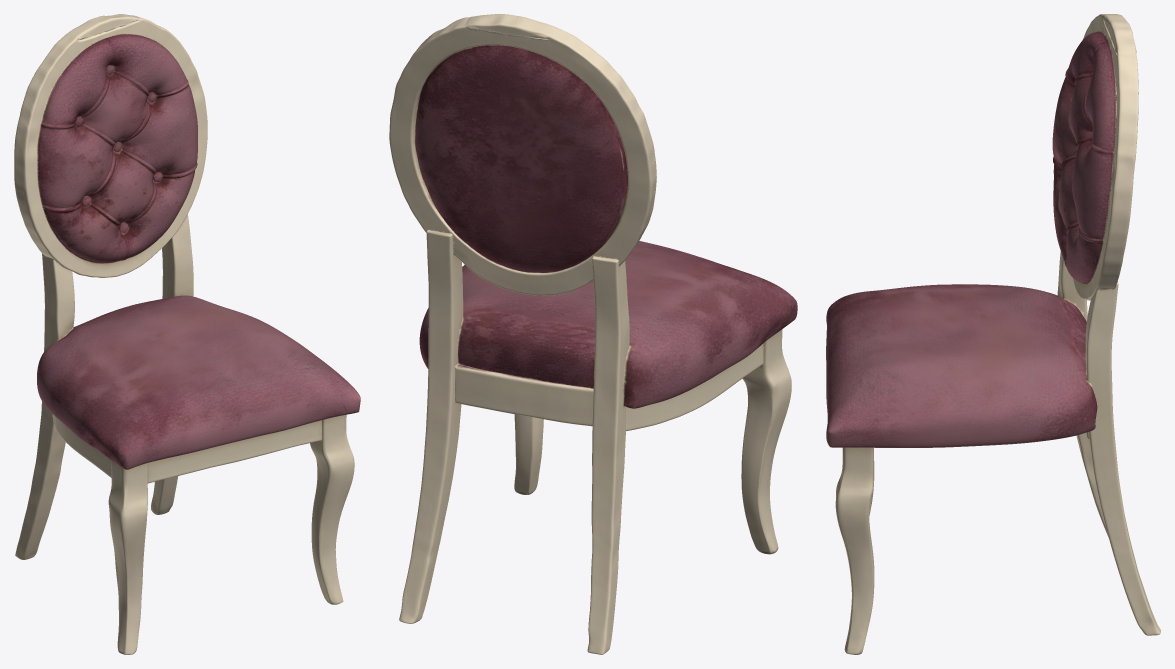
Rendered from Sonia.glb.
3 renders of one model, left to right at view 1: azimuth 30°, elevation 25°; view 2: azimuth 150°, elevation 25°; view 3: azimuth 270°, elevation 25°, orthographic. The views are drawn at different scales.
Parts seen in each view (by area): view 1: tripo_node_b163bc85-4f3e-4ded-b654-01aadfbd9666; view 2: tripo_node_b163bc85-4f3e-4ded-b654-01aadfbd9666; view 3: tripo_node_b163bc85-4f3e-4ded-b654-01aadfbd9666.
Part boxes in pixels (bbox=[...]): tripo_node_b163bc85-4f3e-4ded-b654-01aadfbd9666: bbox=[14, 14, 360, 654]; tripo_node_b163bc85-4f3e-4ded-b654-01aadfbd9666: bbox=[389, 14, 797, 654]; tripo_node_b163bc85-4f3e-4ded-b654-01aadfbd9666: bbox=[826, 14, 1160, 654].
Bounding box in the file's own units: 0.4789 × 0.9798 × 0.5236.
Materials: 1 (1 with a texture image).
